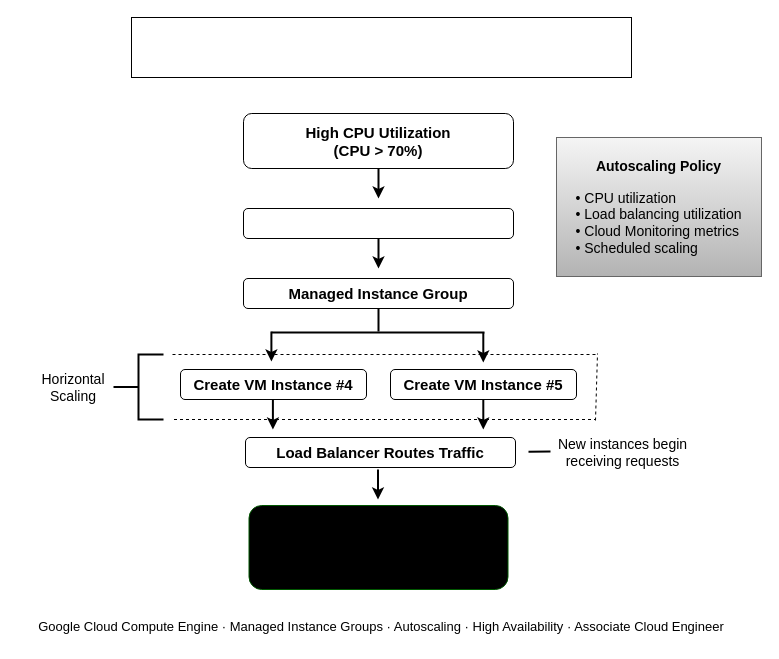
This 779x659 diagram has some shape labels left out. The centre of each missing label's shape, as x and y in pixels:
Application Scales Successfully High Availability Maintained: [378,547]
Autoscaler: [378,223]
Managed Instance Group Autoscaling Workflow: [381,47]
